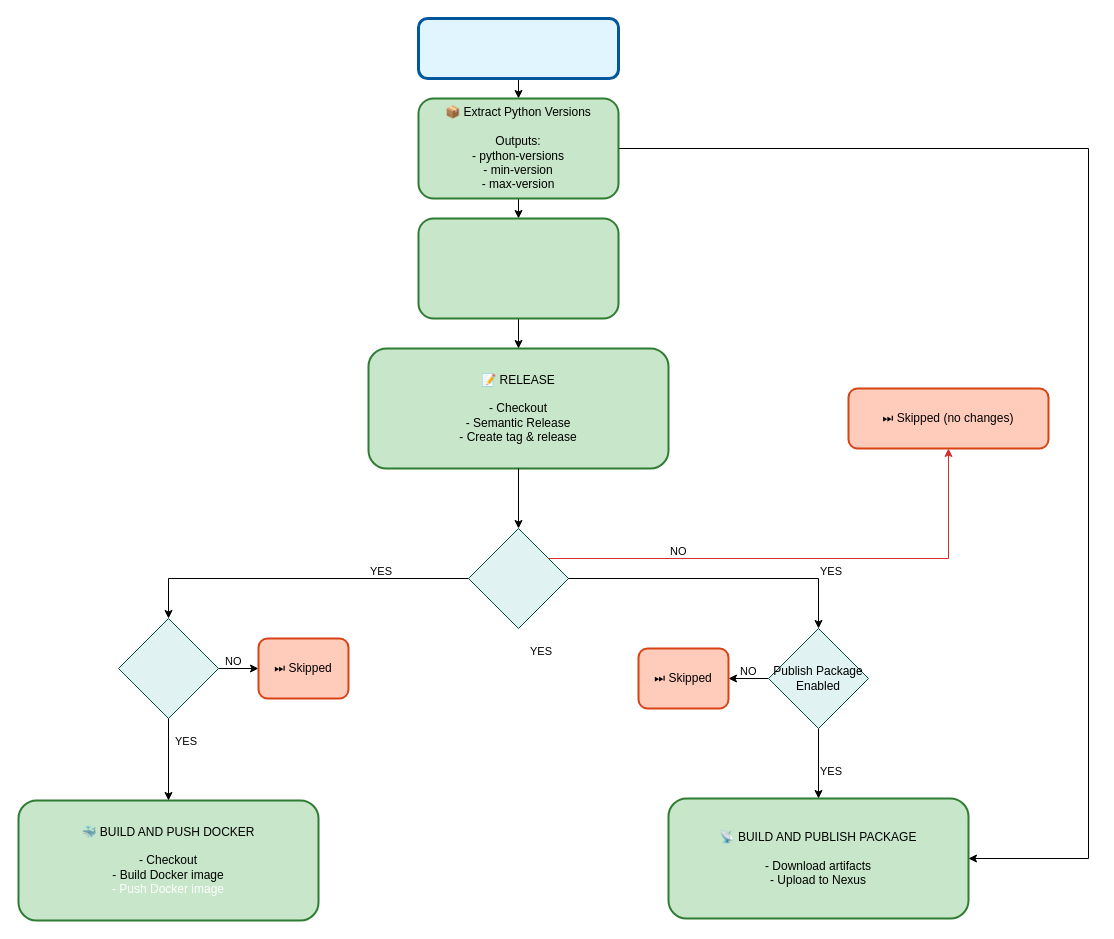
The diagram is 1114 pixels wide and 939 high, and some of its shapes have lost their labels. Each missing label, with the box of its shape:
Docker Enabled: (118, 618, 218, 718)
released?: (468, 528, 568, 628)
✅ TEST JOBS (MATRIX) - Checkout - Setup Python - Run pytest: (417, 217, 619, 319)
🚀 Workflow Triggered: (416, 16, 620, 80)
